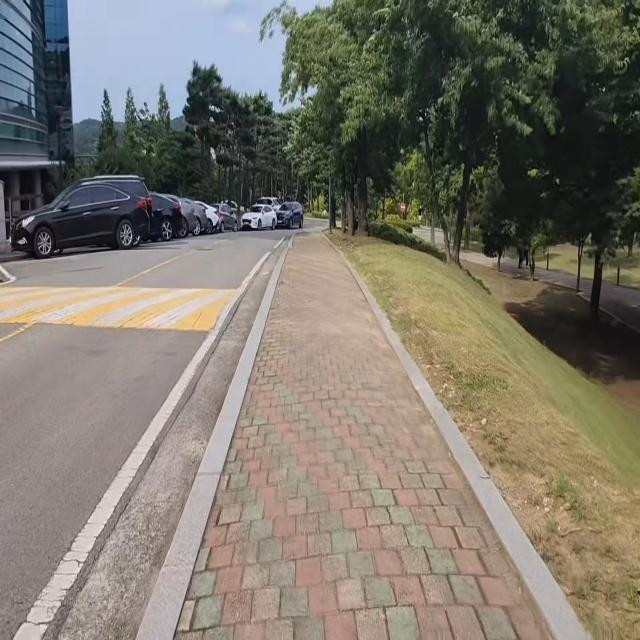obstacle: (9, 170, 158, 260), (237, 194, 306, 237)
road: (0, 230, 290, 640)
